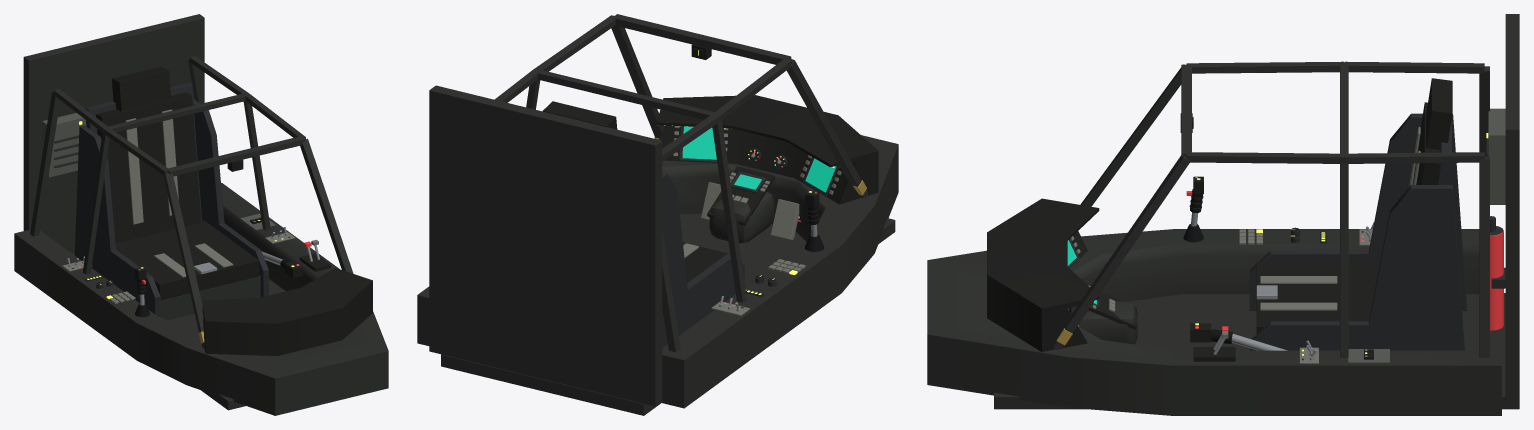
The model's file is Cockpit_Assault.fbx.
3 views of the same model, side by side, from view 1: azimuth 30°, elevation 25°; view 2: azimuth 150°, elevation 25°; view 3: azimuth 270°, elevation 25° (orthographic). The views are drawn at different scales.
Parts seen in each view (by area): view 1: Cockpit_Assault; view 2: Cockpit_Assault; view 3: Cockpit_Assault.
Part boxes in pixels (box(x1,y1,x2,y2)): Cockpit_Assault: box(14, 14, 388, 415); Cockpit_Assault: box(417, 14, 898, 415); Cockpit_Assault: box(927, 14, 1519, 415).
Size of the model in its own units: 0.92 by 0.9 by 1.69.
